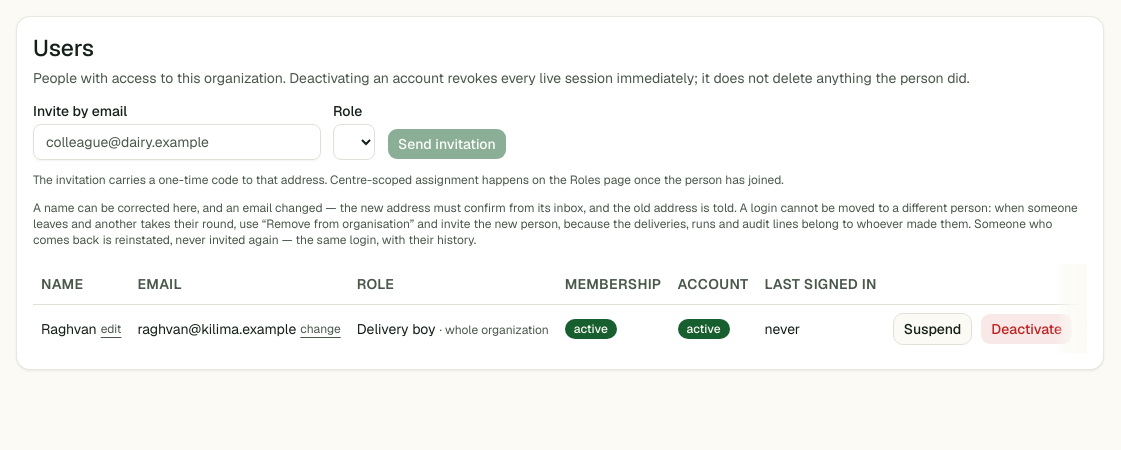
Test case: Admin → Users (WO-87 §2, §3, §4) › starts an email change, says who confirms and what happens to sessions, then shows it pending with a cancel
The width and height of the screenshot is (1121, 450).
Expected: the text "raghvan@kilima.example" is shown, [137,320,296,338]
Click the button with aria-label "Change email of Raghvan" at coordinates (320, 329), box [300,321,341,337]
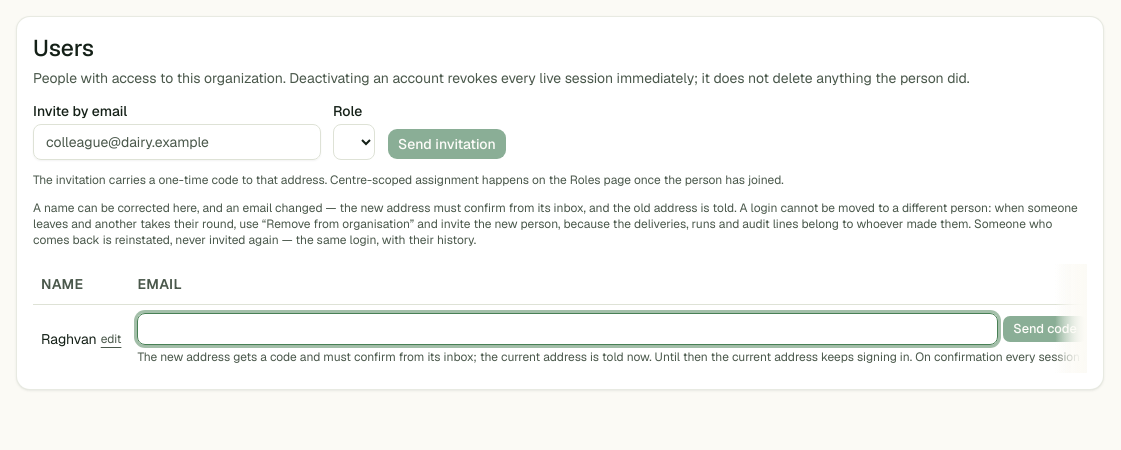
Result: the form with test id "email-change-u-2" shows "must confirm from its inbox" at [137,349,1087,365]
Result: the form with test id "email-change-u-2" shows "current address is told now" at [137,349,1087,365]
Result: the form with test id "email-change-u-2" shows "every session is signed out" at [137,349,1087,365]
Type "raghavan@kilima.example" into the field named "New email" at coordinates (568, 329), box [137,313,998,345]
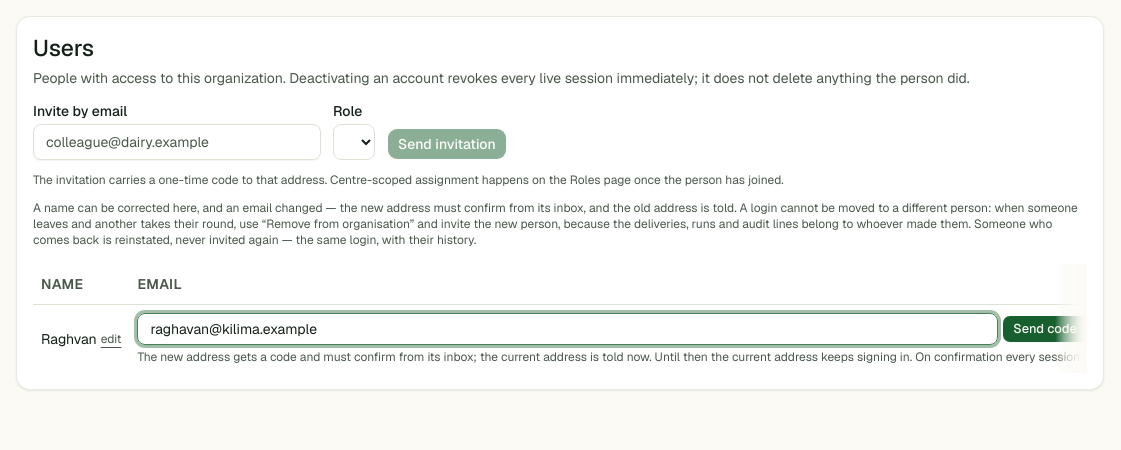
Click the button "Send code" at coordinates (1045, 329), box [1002,315,1088,343]
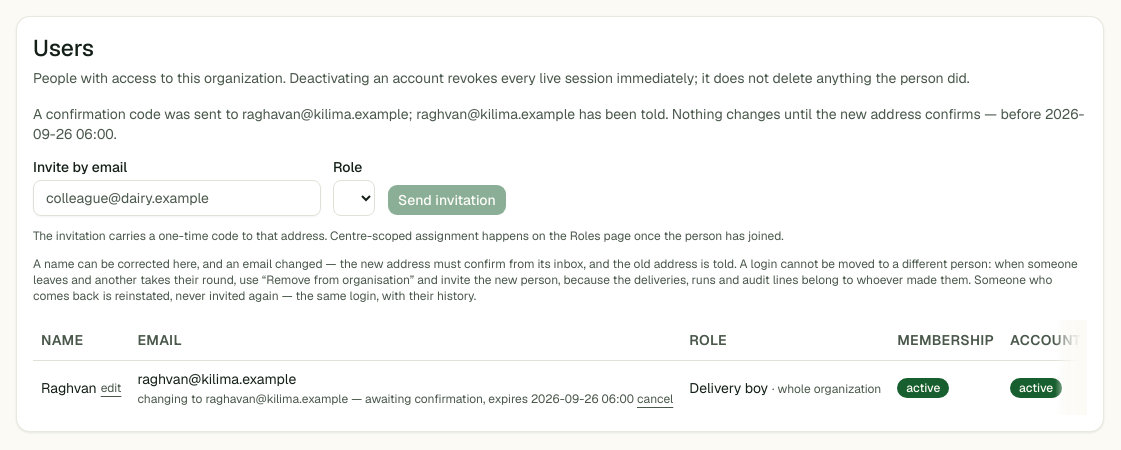
Result: the element with test id "pending-email-u-2" shows "changing to raghavan@kilima.example" at [137,391,673,407]
Result: the element with test id "pending-email-u-2" shows "expires 2026-09-26 06:00" at [137,391,673,407]
Result: the text "raghvan@kilima.example" is shown at [137,370,296,388]
Click the button "cancel" at coordinates (655, 399), box [637,391,673,407]
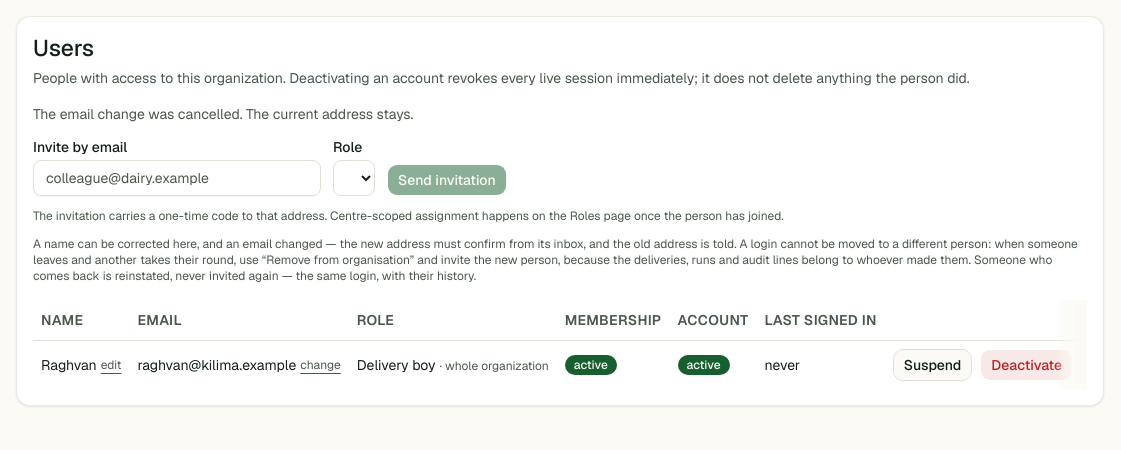
Result: the element with test id "pending-email-u-2" is gone
